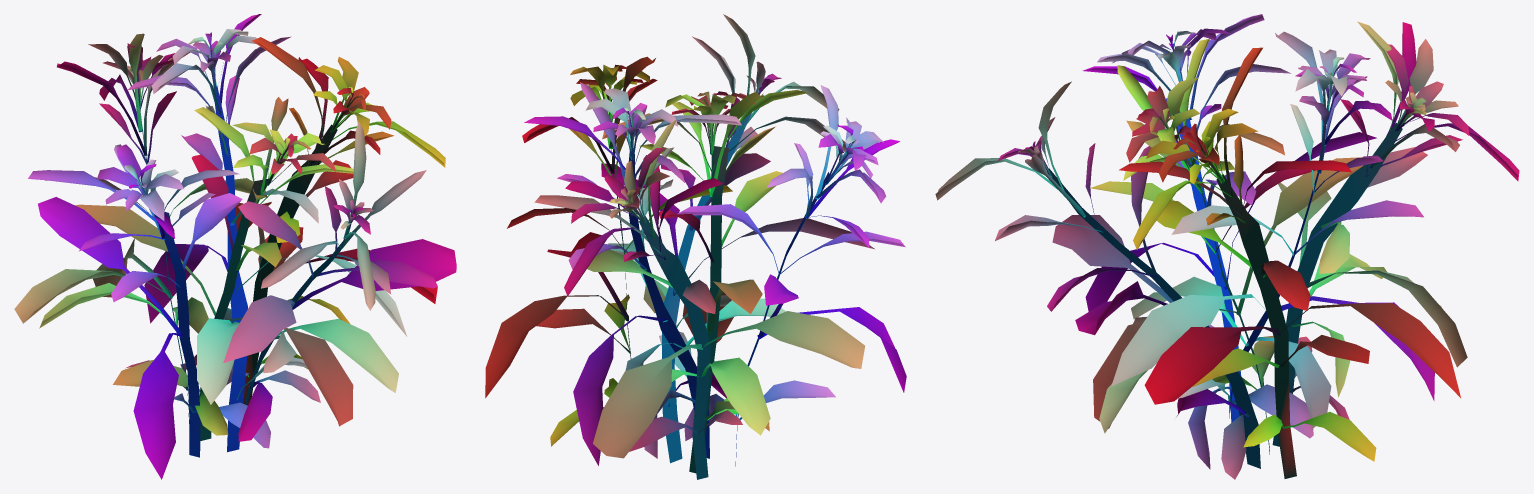
The model's file is Sage_ve3gbfoja_Mid_ve3gbfoja_VarA_LOD1.fbx.
3 renders of one model, left to right at view 1: azimuth 30°, elevation 25°; view 2: azimuth 150°, elevation 25°; view 3: azimuth 270°, elevation 25°, orthographic. The views are drawn at different scales.
Parts seen in each view (by area): view 1: _7nq4_VarA_LOD3; view 2: _7nq4_VarA_LOD3; view 3: _7nq4_VarA_LOD3.
Boxes of the visible parts, x1,y1,x2,y2 form: _7nq4_VarA_LOD3: (14, 14, 456, 479); _7nq4_VarA_LOD3: (485, 14, 906, 479); _7nq4_VarA_LOD3: (935, 14, 1519, 479).
Bounding box in the file's own units: 71.88 × 73.24 × 89.71.
